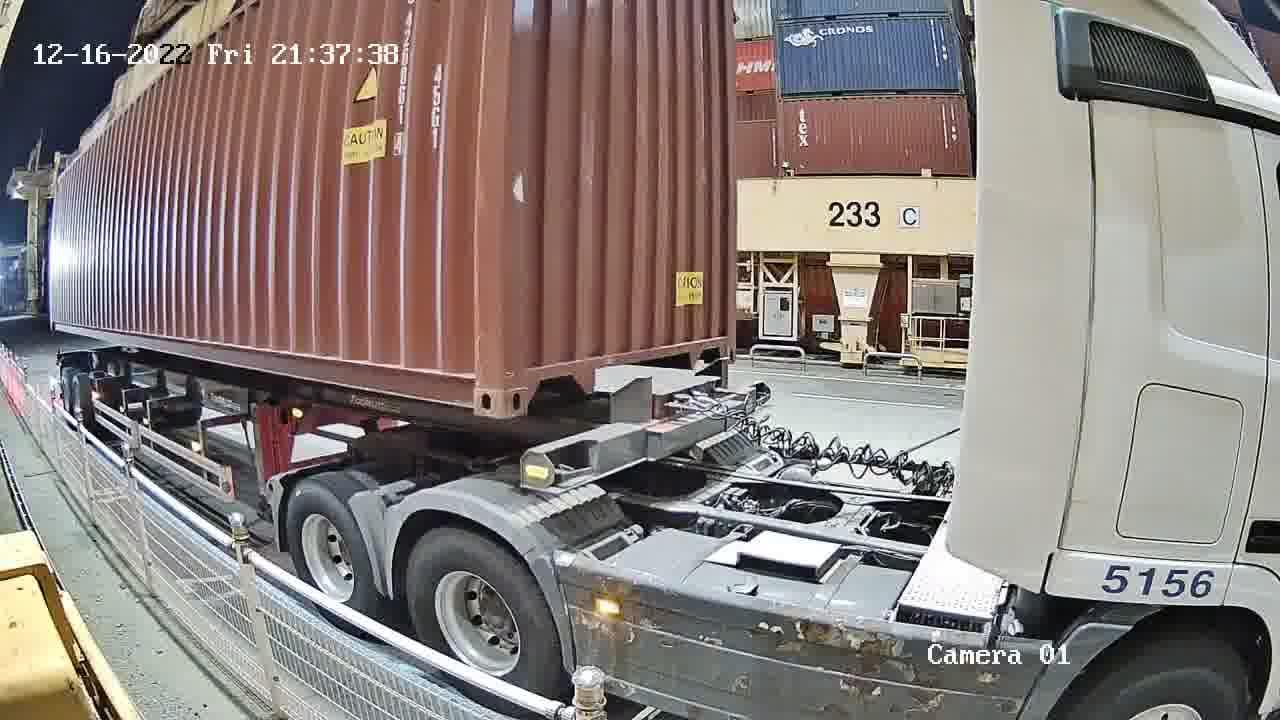Chassis: (520, 375, 775, 494)
Hole_L: (503, 348, 557, 421)
Hole_R: (436, 346, 504, 419), (697, 309, 740, 363)
Tire: (408, 530, 562, 698), (287, 480, 375, 610)
